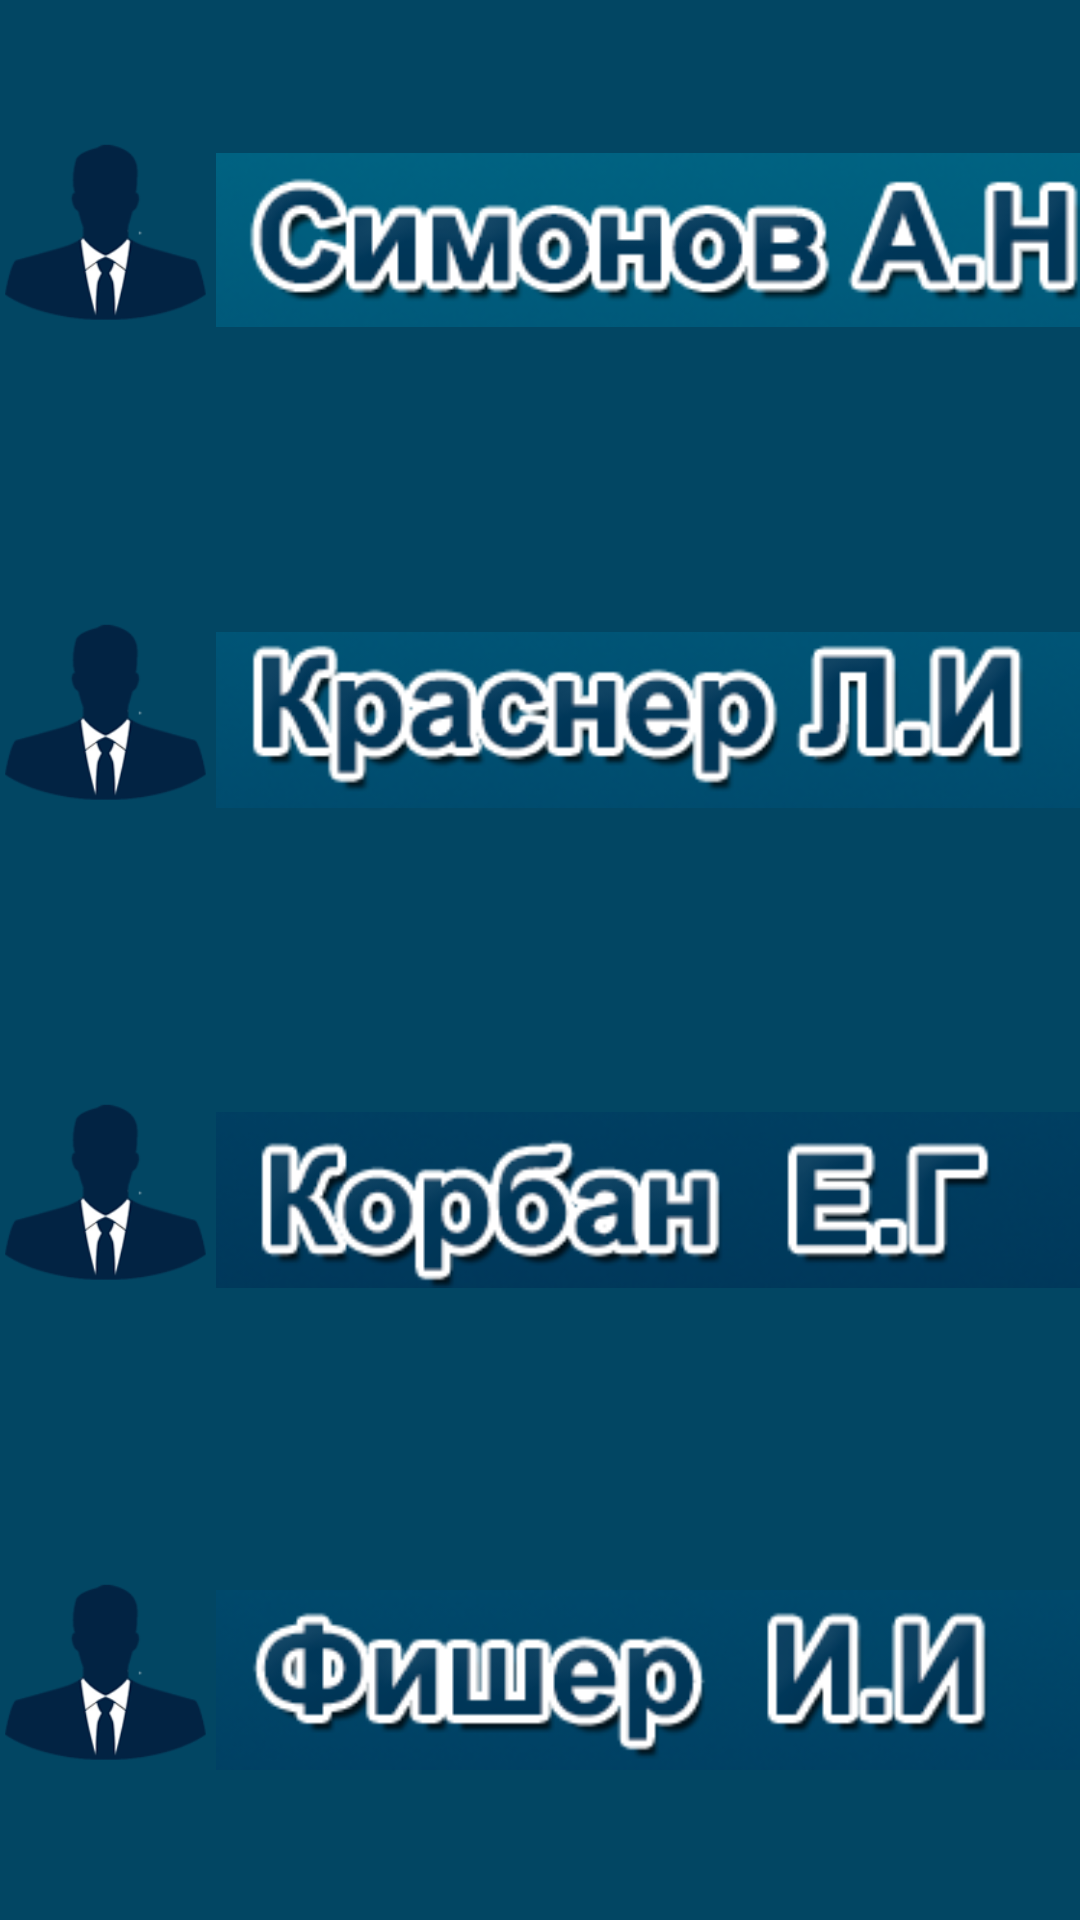

Where icons sit on this 1080 × 1920 app screen, as [x1, y1, x2, y2]:
rukovod: [5, 145, 205, 319], [5, 625, 205, 799], [5, 1105, 205, 1279], [5, 1585, 205, 1759]
